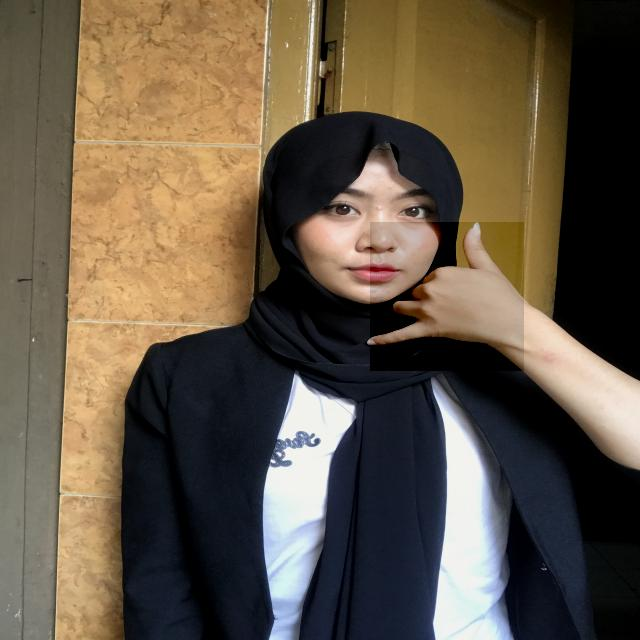telpon: (370, 222, 524, 371)
